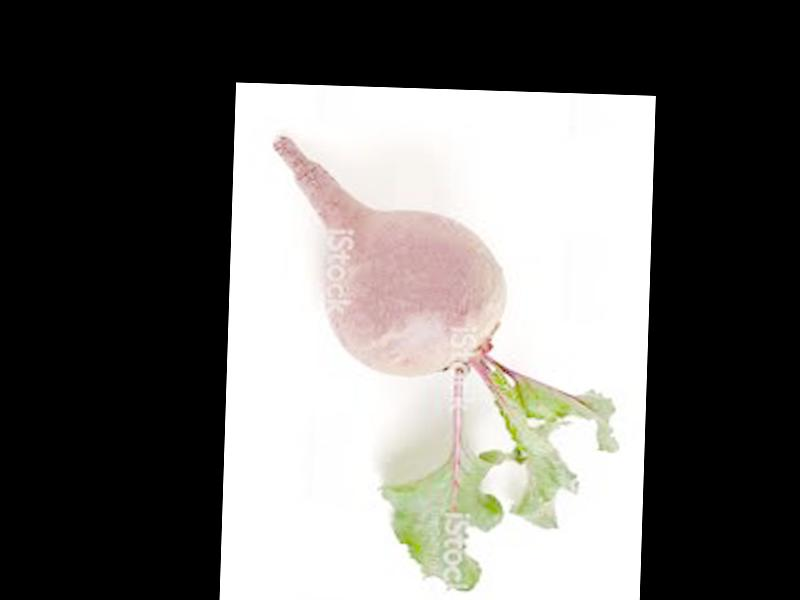Beet: (260, 137, 628, 598)
